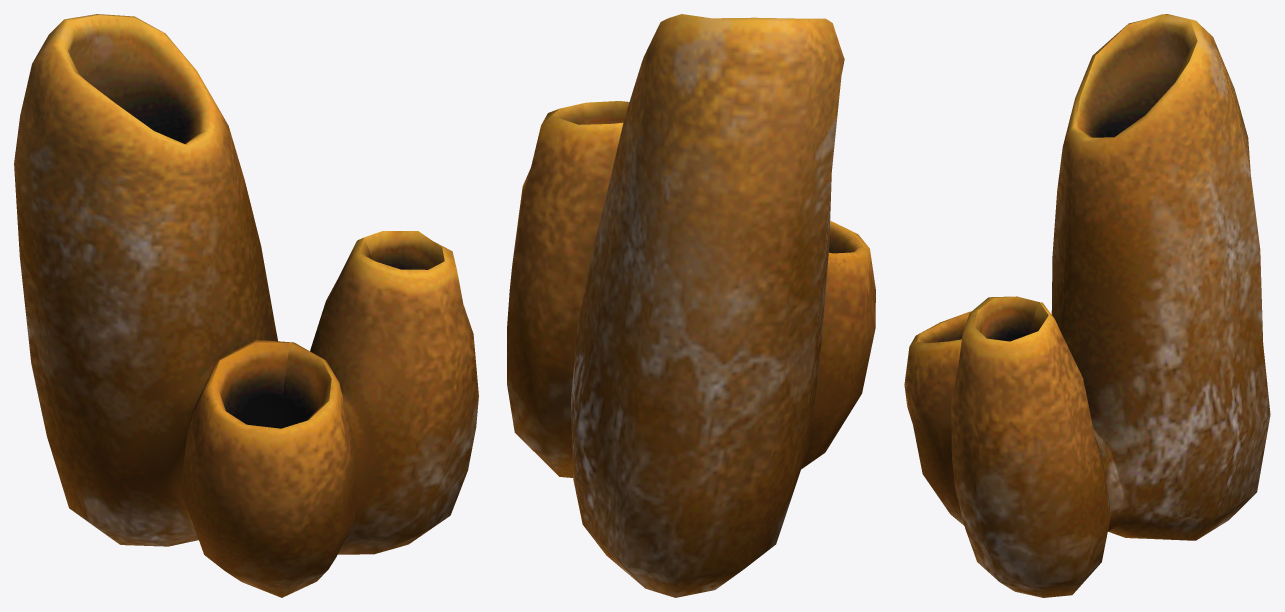
The model's file is Coral V2.fbx.
The picture shows the model from 3 angles, left to right: view 1: azimuth 30°, elevation 25°; view 2: azimuth 150°, elevation 25°; view 3: azimuth 270°, elevation 25°; orthographic projection. The views are drawn at different scales.
Parts seen in each view (by area): view 1: Coral V2; view 2: Coral V2; view 3: Coral V2.
Boxes of the visible parts, left/top/right/bottom form: Coral V2: left=14, top=14, right=478, bottom=597; Coral V2: left=507, top=14, right=875, bottom=597; Coral V2: left=904, top=14, right=1270, bottom=597.
Size of the model in its own units: 43.03 by 60.75 by 42.51.
